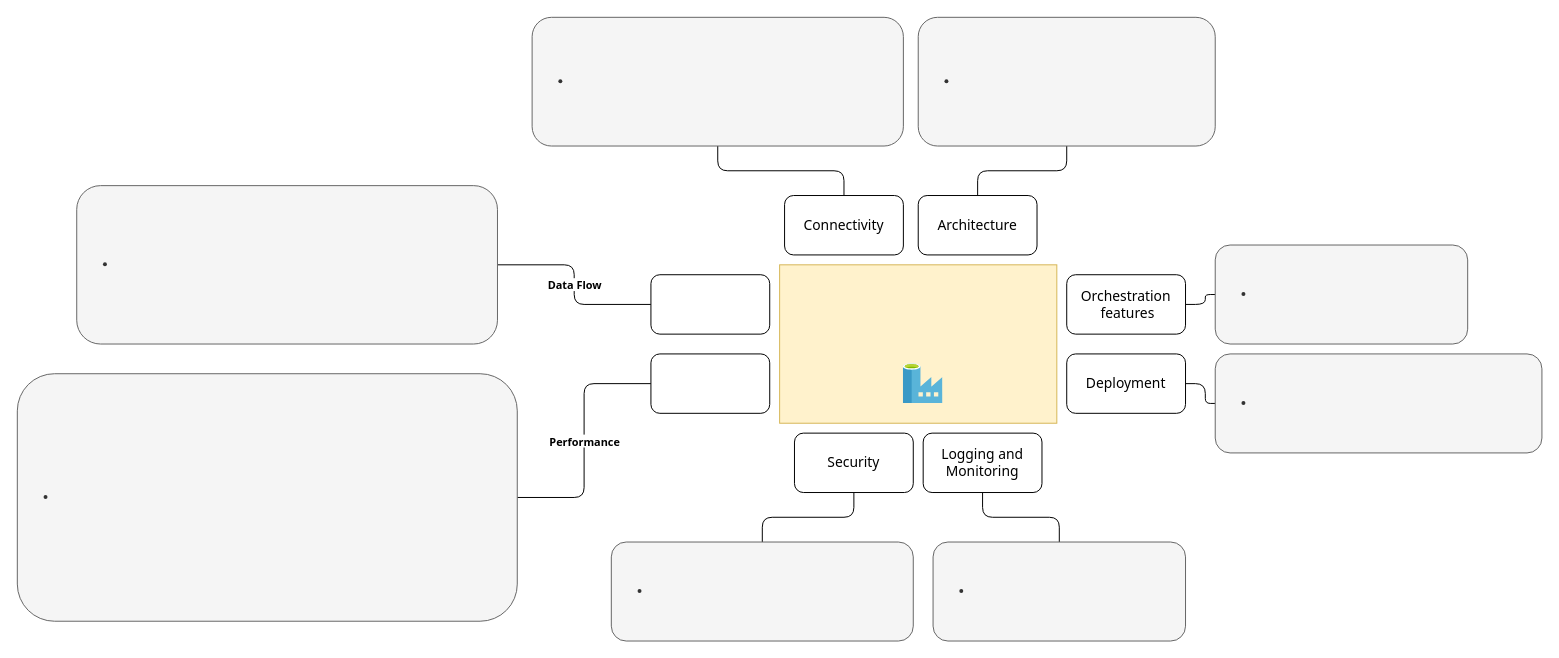
Image size: 1559x658. Some labels were removed from this diagram. Each missing label, with the box of its shape:
Apache Airflow: (779, 264, 1057, 423)
Best Practices: (650, 353, 770, 413)
Data Transformation Features: (650, 274, 770, 334)
